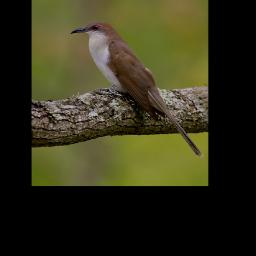Cuckoo: (69, 21, 203, 158)
